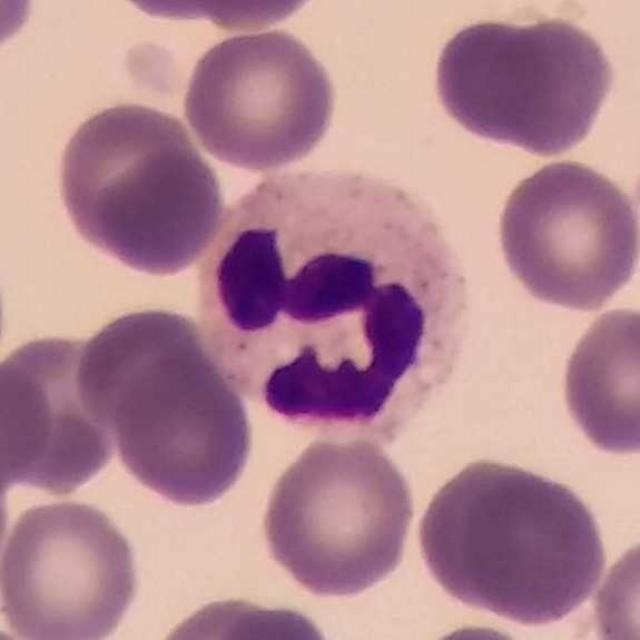Neutrophil: (196, 152, 479, 452)
RBC: (412, 453, 612, 628), (51, 99, 228, 279), (255, 430, 420, 601), (448, 10, 618, 158), (107, 345, 258, 511), (179, 23, 342, 175), (491, 155, 640, 315), (0, 328, 130, 494), (0, 494, 146, 640), (72, 302, 210, 434), (554, 300, 640, 461), (145, 591, 338, 640), (0, 355, 58, 496), (109, 0, 340, 32), (586, 527, 640, 640), (405, 619, 552, 640), (0, 0, 43, 63), (0, 444, 12, 599)
